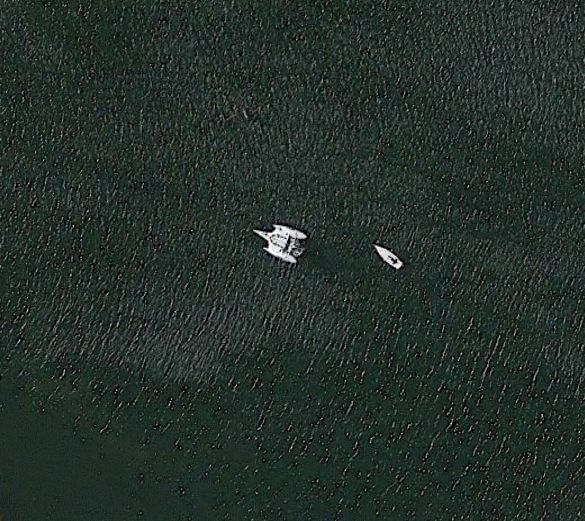boat: (250, 221, 308, 266), (371, 242, 404, 271)
